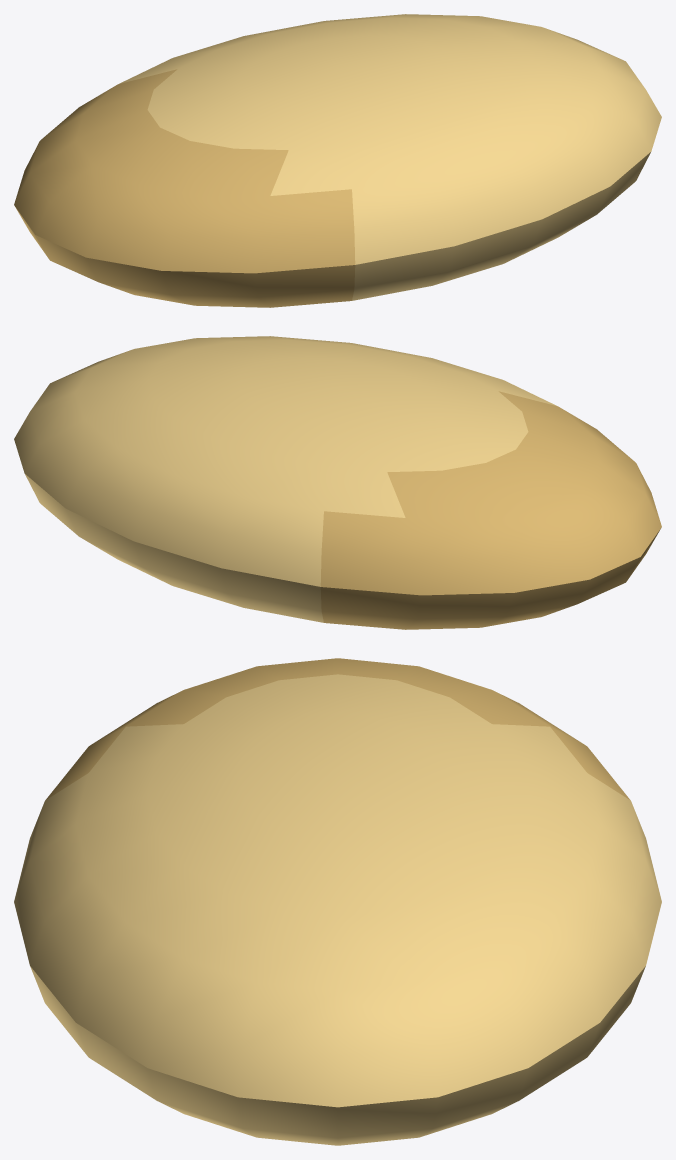
The model's file is Dune.fbx.
3 views of the same model, one above another, from view 1: azimuth 30°, elevation 25°; view 2: azimuth 150°, elevation 25°; view 3: azimuth 270°, elevation 25° (orthographic). The views are drawn at different scales.
Parts seen in each view (by area): view 1: Dune; view 2: Dune; view 3: Dune.
Boxes of the visible parts, x1,y1,x2,y2 form: Dune: (14, 14, 661, 307); Dune: (14, 336, 661, 629); Dune: (14, 658, 661, 1145).
Bounding box in the file's own units: 6000 × 1800 × 4000.
